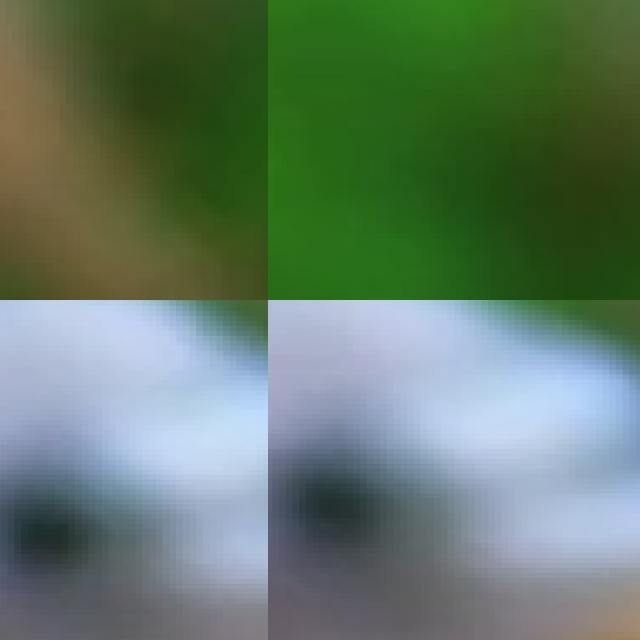fish: (0, 300, 268, 640), (0, 0, 268, 300)
